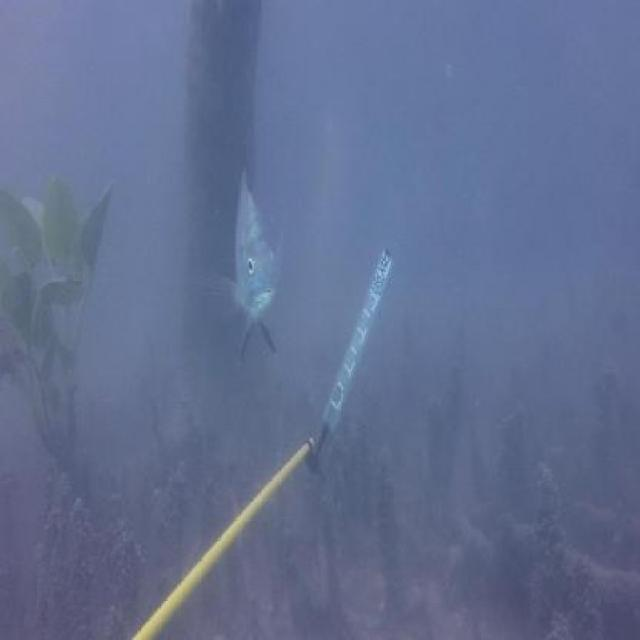acanthopagrus_palmaris: (213, 144, 295, 364)
